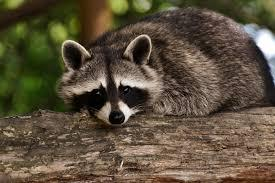raccoon: (46, 0, 275, 135)
